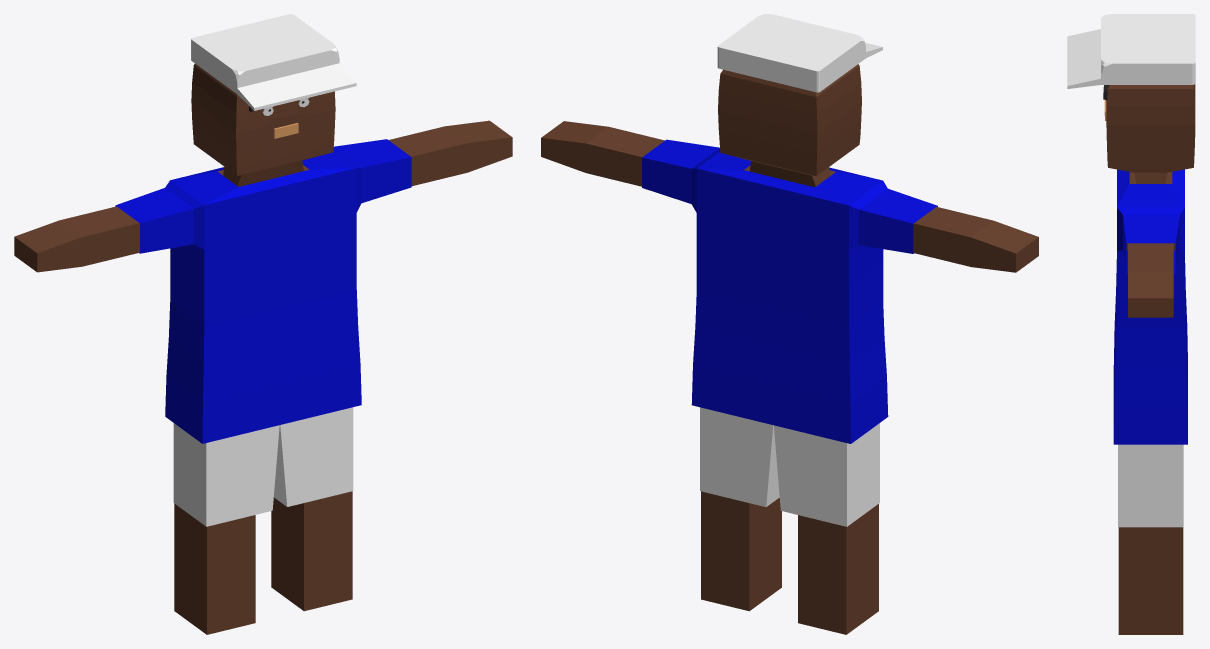
Rendered from character3.glb.
The picture shows the model from 3 angles, left to right: view 1: azimuth 30°, elevation 25°; view 2: azimuth 150°, elevation 25°; view 3: azimuth 270°, elevation 25°; orthographic projection.
Visible parts, largest first — view 1: Cube.001, Cube, Cube.002, Plane; view 2: Cube.001, Cube, Cube.002, Plane; view 3: Cube, Cube.001, Plane, Cube.002.
Part boxes in pixels (x1,y1,x2,y2): Cube.001: (115,139,411,443); Cube: (14,63,512,634); Cube.002: (173,407,353,526); Plane: (191,14,356,110); Cube.001: (642,139,937,443); Cube: (541,64,1038,634); Cube.002: (700,407,879,526); Plane: (717,14,882,92); Cube: (1103,84,1195,634); Cube.001: (1113,169,1187,444); Plane: (1067,14,1195,88); Cube.002: (1118,444,1183,527).
Bounding box in the file's own units: 1.8 × 2.04 × 0.4222.
